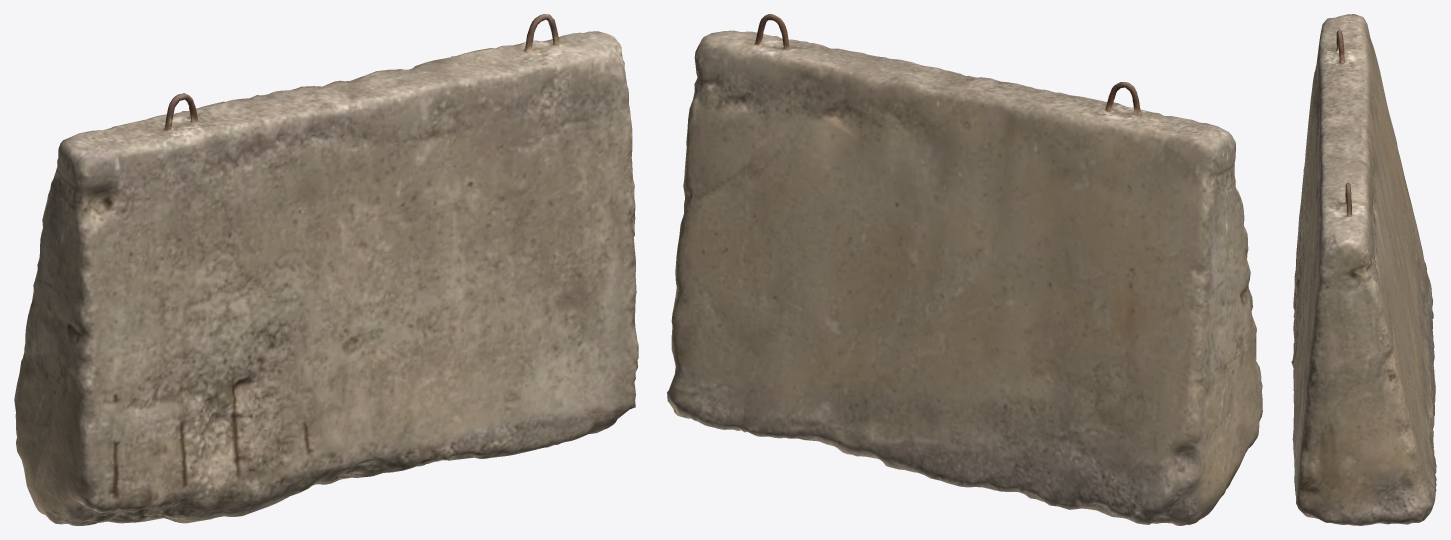
File: concrete_road_barrier_02.glb
3 views of the same model, side by side, from view 1: azimuth 30°, elevation 25°; view 2: azimuth 150°, elevation 25°; view 3: azimuth 270°, elevation 25° (orthographic). The views are drawn at different scales.
Visible parts, largest first — view 1: concrete_road_barrier_02; view 2: concrete_road_barrier_02; view 3: concrete_road_barrier_02.
Boxes of the visible parts, x1,y1,x2,y2 form: concrete_road_barrier_02: (14,14,638,525); concrete_road_barrier_02: (667,14,1262,525); concrete_road_barrier_02: (1291,14,1436,525).
Bounding box in the file's own units: 1.57 × 1.11 × 0.4422.
1 material, 1 textured.
